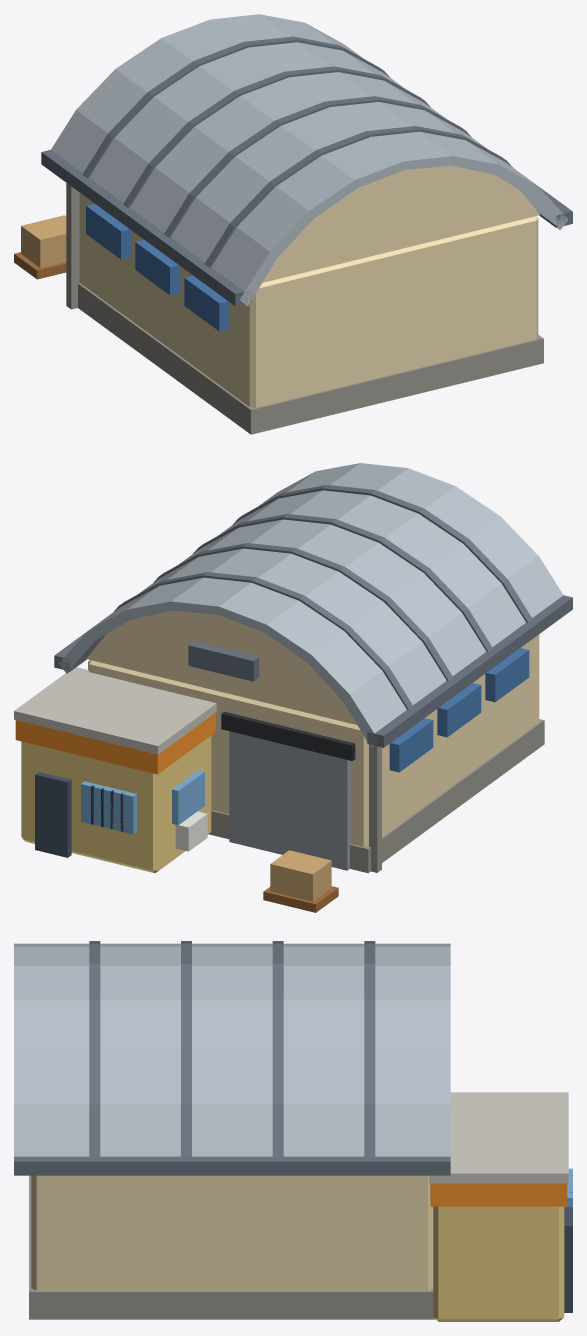
File: galpao_pequeno.glb
3 renders of one model, top to bottom at view 1: azimuth 30°, elevation 25°; view 2: azimuth 150°, elevation 25°; view 3: azimuth 270°, elevation 25°, orthographic. The views are drawn at different scales.
Visible parts, largest first — view 1: corpo; view 2: corpo; view 3: corpo.
Part boxes in pixels (left/top/right/bottom): corpo: left=14, top=14, right=572, bottom=434; corpo: left=14, top=463, right=572, bottom=912; corpo: left=14, top=941, right=572, bottom=1321.
Bounding box in the file's own units: 1.01 × 0.696 × 1.28.
